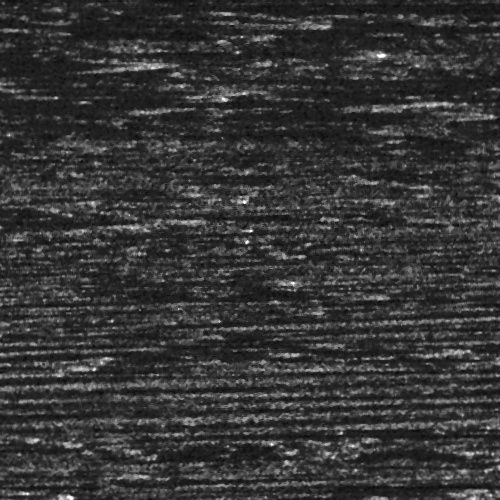object: (327, 96, 484, 109), (414, 108, 500, 119), (447, 426, 500, 437), (115, 60, 198, 67), (461, 462, 500, 465)
shadow: (204, 426, 500, 437), (256, 108, 460, 119), (266, 96, 405, 109), (395, 19, 500, 36), (81, 60, 156, 67), (346, 462, 481, 465)
